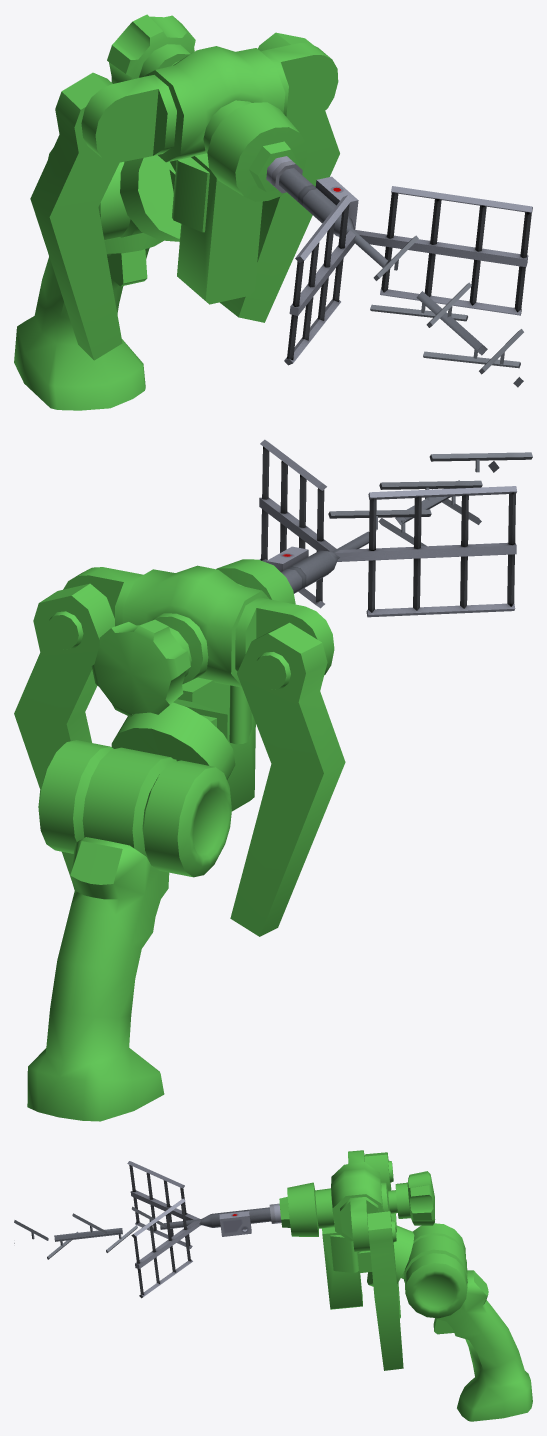
Rendered from Fant_Waypoint_Marker.fbx.
The picture shows the model from 3 angles, top to bottom: view 1: azimuth 30°, elevation 25°; view 2: azimuth 150°, elevation 25°; view 3: azimuth 270°, elevation 25°; orthographic projection. The views are drawn at different scales.
Visible parts, largest first — view 1: char_connecttool_geoMesh; view 2: char_connecttool_geoMesh; view 3: char_connecttool_geoMesh.
Boxes of the visible parts, <box> form: char_connecttool_geoMesh: <box>14,14,532,410</box>; char_connecttool_geoMesh: <box>14,439,532,1121</box>; char_connecttool_geoMesh: <box>14,1150,532,1421</box>.
Size of the model in its own units: 97.91 by 257 by 132.
